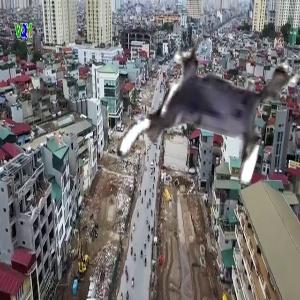drone: (122, 26, 298, 202)
